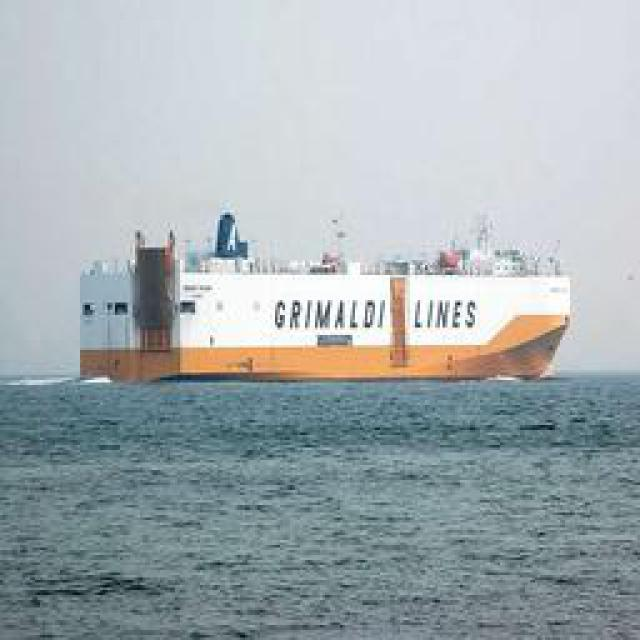Ship: (83, 215, 578, 385)
